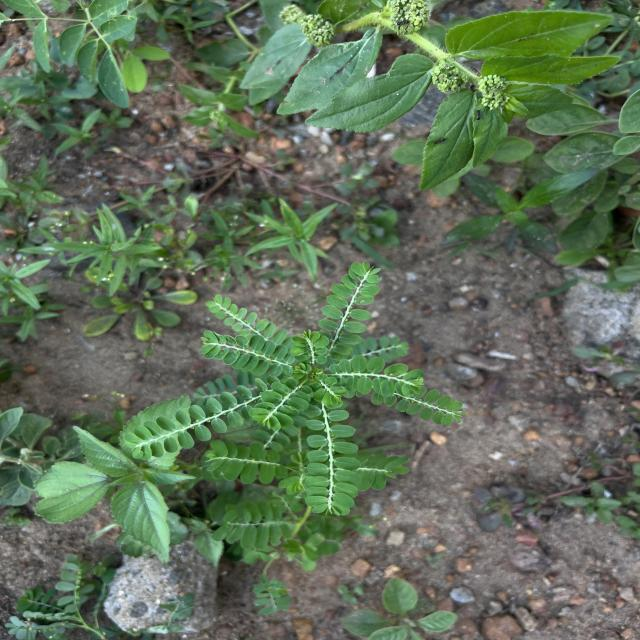Phyllanthus niruri: (123, 374, 268, 463), (300, 406, 364, 520), (314, 259, 384, 339), (200, 290, 295, 342), (200, 329, 298, 378), (328, 357, 422, 399), (246, 378, 313, 433)
